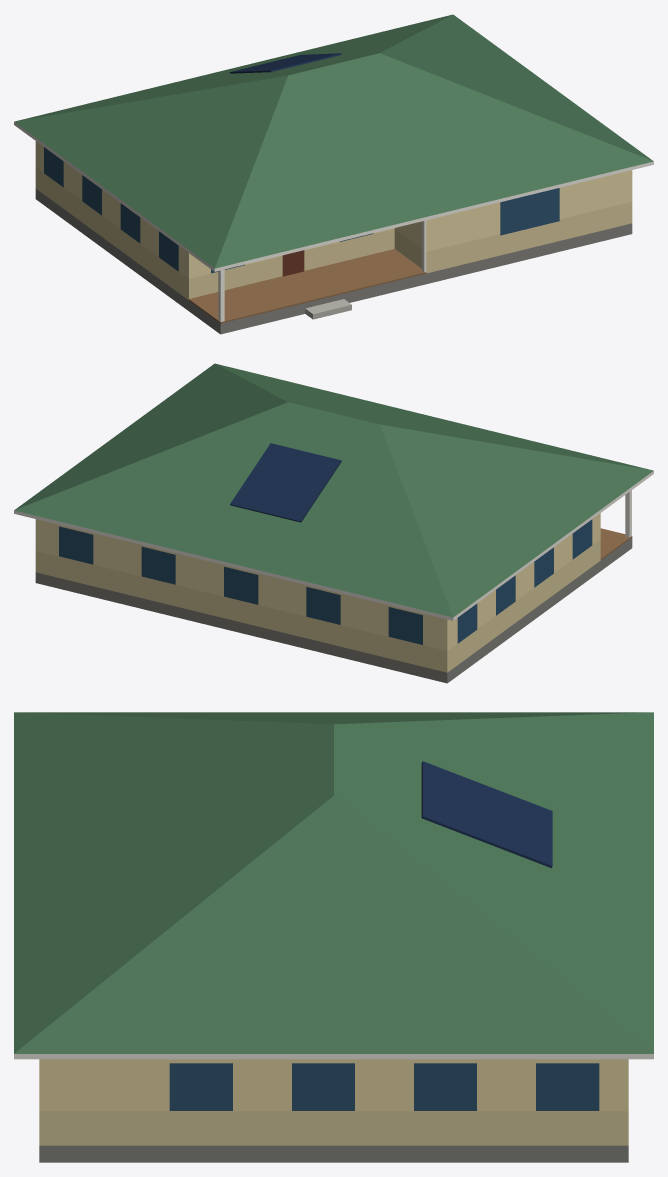
The model's file is house_18x14_lod1.glb.
The picture shows the model from 3 angles, top to bottom: view 1: azimuth 30°, elevation 25°; view 2: azimuth 150°, elevation 25°; view 3: azimuth 270°, elevation 25°; orthographic projection. The views are drawn at different scales.
Visible parts, largest first — view 1: house; view 2: house; view 3: house.
Part boxes in pixels (bbox=[...]): house: bbox=[14, 14, 653, 334]; house: bbox=[14, 363, 653, 683]; house: bbox=[14, 712, 653, 1162].
Size of the model in its own units: 19.2 by 6.36 by 15.2.
